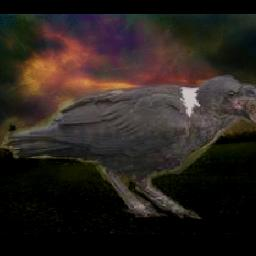Crow: (0, 73, 256, 221)
